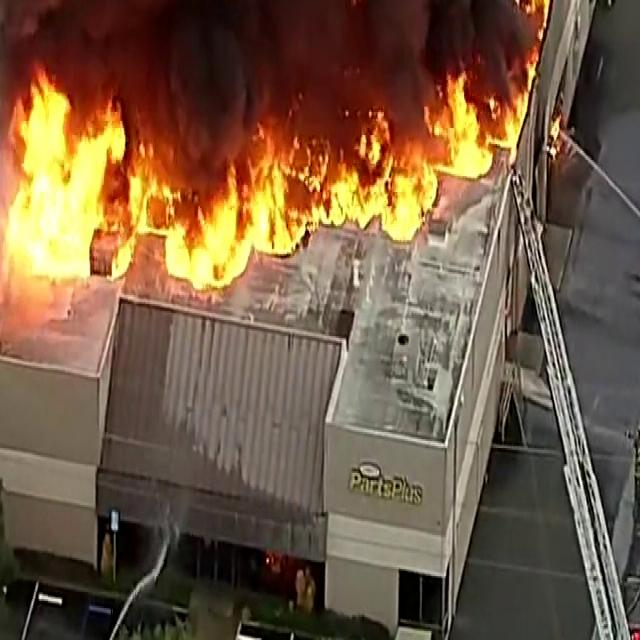fire: (4, 63, 111, 294), (417, 98, 532, 216), (321, 131, 440, 245), (156, 178, 250, 306), (238, 143, 320, 264)
